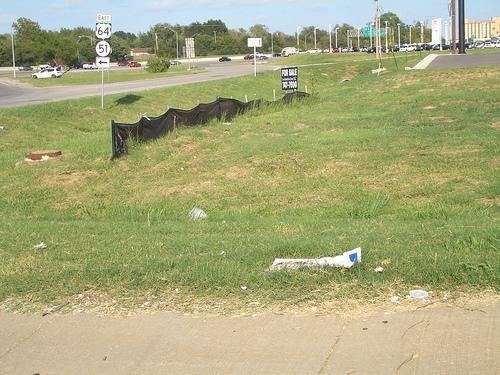car: (31, 68, 62, 79), (304, 49, 322, 54), (18, 65, 33, 71), (129, 61, 141, 68), (421, 43, 433, 50), (406, 44, 416, 51), (341, 48, 354, 52), (244, 54, 254, 59), (332, 47, 340, 53), (220, 58, 230, 62), (274, 54, 282, 57)
